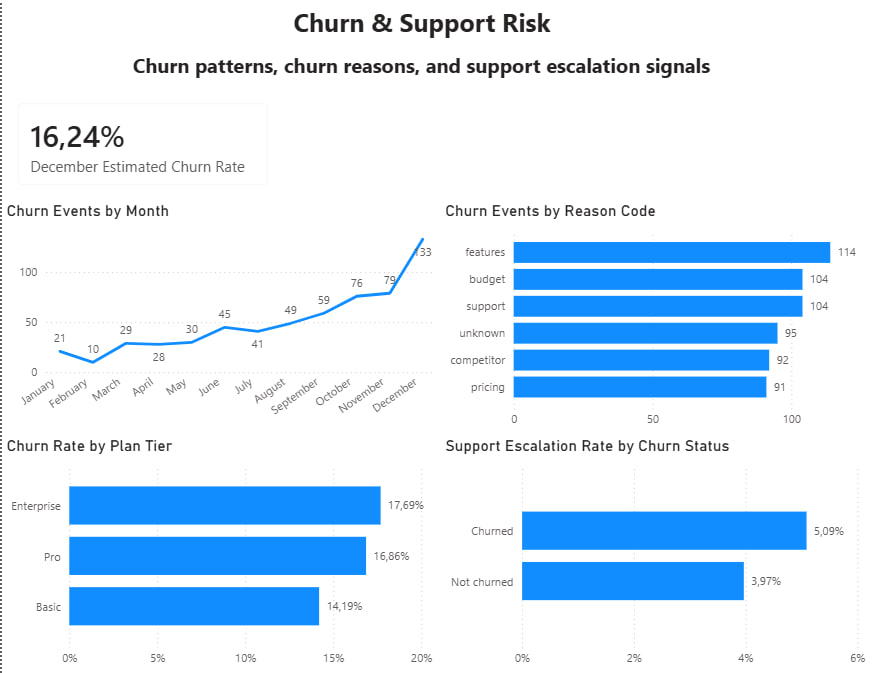

The page's visual inventory and layout, read from the dashboard file:
{"tool":"powerbi","page":{"name":"Churn & Support Risk","canvas":[1280,720],"ordinal":2},"visuals":[{"type":"textbox","box":[10.7,0,874.7,49.3],"z":0},{"type":"textbox","box":[9.3,49.3,876,44],"z":1000},{"type":"cardVisual","fields":{"Data":["subscriptions_clean.December Estimated Churn Rate"]},"box":[0,93.3,301.3,121.3],"z":2000},{"type":"lineChart","fields":{"Y":["churn_events_clean.Churn Events"],"Category":["churn_events_clean.Churn Month.Variation.Date Hierarchy.Month","churn_events_clean.Churn Month.Variation.Date Hierarchy.Day"]},"box":[0,214.7,468,250.7],"z":2001},{"type":"clusteredBarChart","title":"Churn Events by Reason Code","fields":{"Category":["churn_events_clean.reason_code"],"Y":["churn_events_clean.Churn Events"]},"box":[468,214.7,458.7,250.7],"z":2002},{"type":"clusteredBarChart","title":"Churn Rate by Plan Tier","fields":{"Category":["accounts_clean.plan_tier"],"Y":["subscriptions_clean.December Estimated Churn Rate"]},"box":[0,465.3,468,254.7],"z":2003},{"type":"clusteredBarChart","title":"Support Escalation Rate by Churn Status","fields":{"Category":["accounts_clean.Churn Status"],"Y":["support_tickets_clean.Support Escalation Rate"]},"box":[468,465.3,458.7,254.7],"z":2004}]}

Visuals, with their boxes on the page's 1280x720 design canvas (x1, y1, x2, y2). These are canvas units, not pixel positions in the 876x673 screenshot, which may show the page scaled, cropped or inside an application window:
textbox: (11, 0, 885, 49)
textbox: (9, 49, 885, 93)
cardVisual - subscriptions_clean.December Estimated Churn Rate: (0, 93, 301, 215)
lineChart - churn_events_clean.Churn Events x churn_events_clean.Churn Month.Variation.Date Hierarchy.Month: (0, 215, 468, 465)
"Churn Events by Reason Code" clusteredBarChart: (468, 215, 927, 465)
"Churn Rate by Plan Tier" clusteredBarChart: (0, 465, 468, 720)
"Support Escalation Rate by Churn Status" clusteredBarChart: (468, 465, 927, 720)
